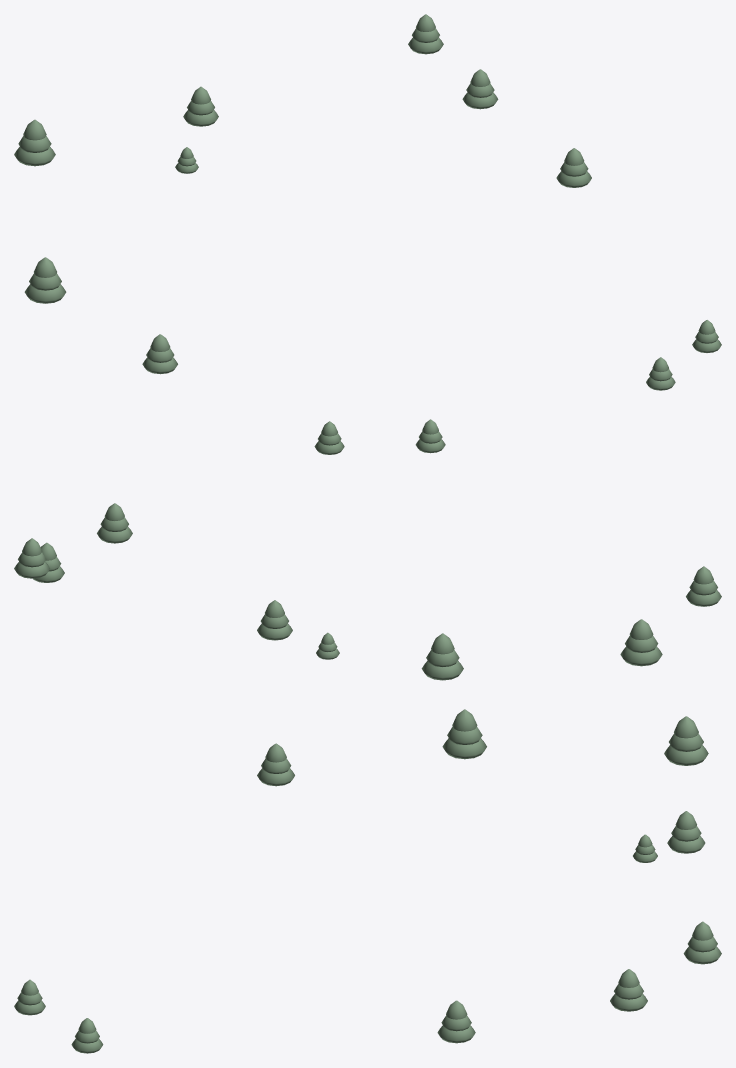
File: SM_Leaves.fbx
3 renders of one model, top to bottom at view 1: azimuth 30°, elevation 25°; view 2: azimuth 150°, elevation 25°; view 3: azimuth 270°, elevation 25°, orthographic. The views are drawn at different scales.
Parts seen in each view (by area): view 1: SM_Leaves; view 2: SM_Leaves; view 3: SM_Leaves.
Part boxes in pixels (x1,y1,x2,y2): SM_Leaves: (14,14,721,390); SM_Leaves: (14,419,721,680); SM_Leaves: (14,709,721,1053).
Bounding box in the file's own units: 8407 × 8629 × 1761.
